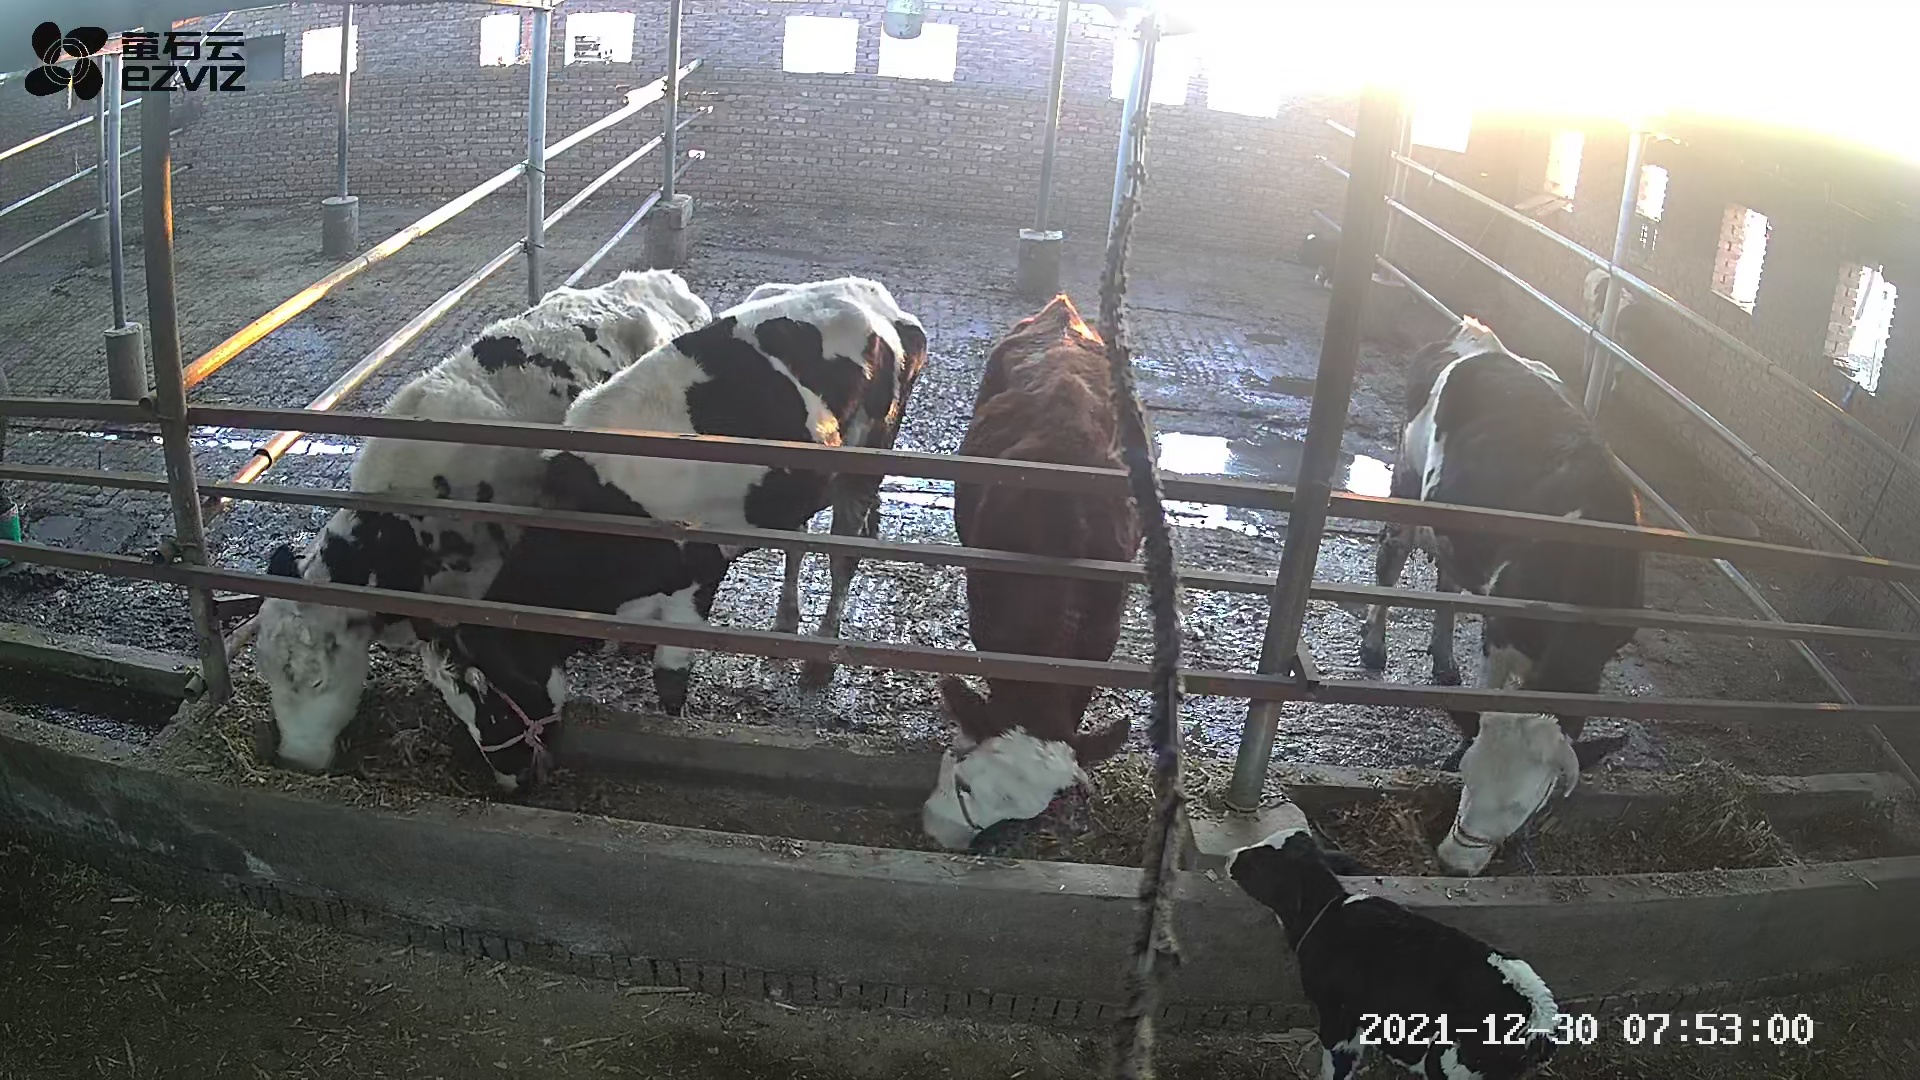cow: (418, 272, 931, 796), (249, 268, 712, 775), (1358, 313, 1643, 877), (920, 295, 1153, 855)
